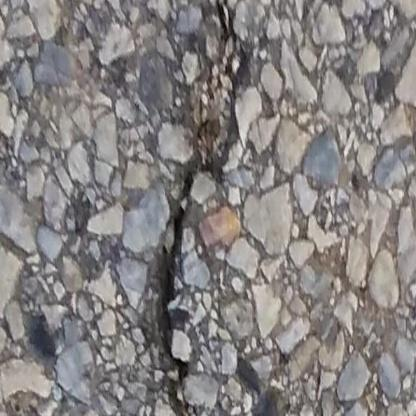Cracks: (147, 0, 246, 416)
